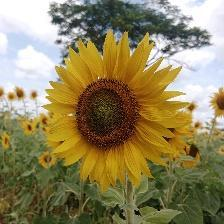sunflower: (41, 30, 197, 197), (162, 120, 186, 161), (211, 87, 224, 119), (40, 151, 57, 173), (21, 121, 39, 137), (38, 115, 56, 129), (190, 120, 204, 136), (184, 100, 199, 114), (2, 132, 12, 151), (17, 86, 28, 102), (9, 91, 19, 104), (30, 90, 41, 101), (1, 86, 7, 105), (33, 121, 44, 131), (219, 143, 224, 159)
